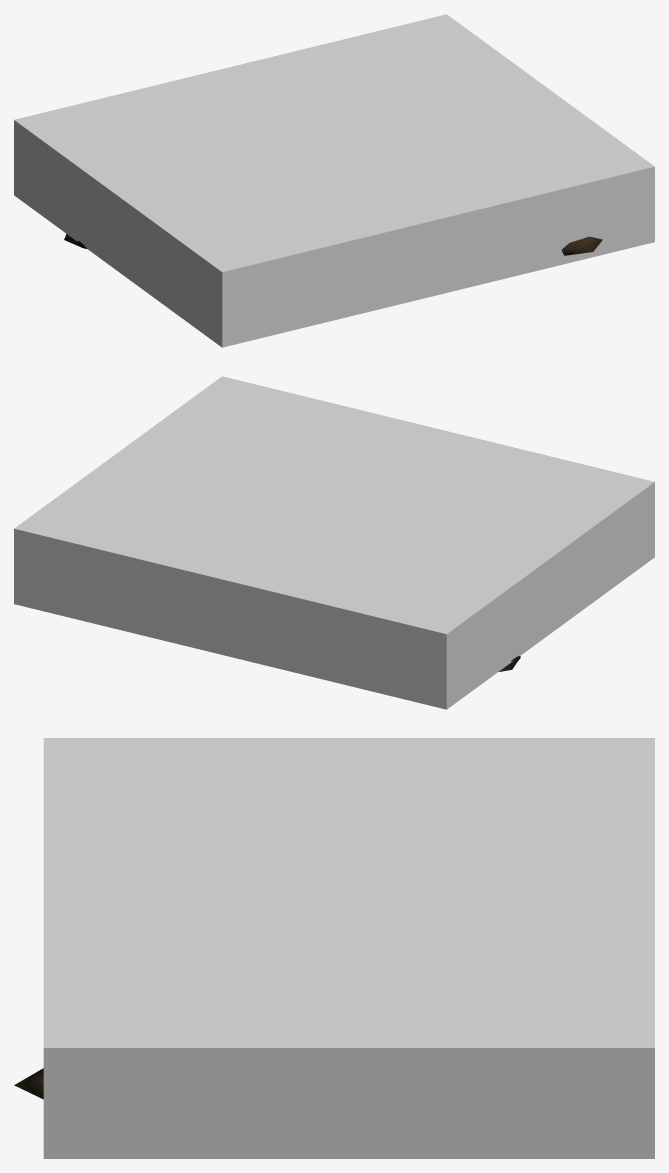
The model's file is sack_pile_opened.glb.
3 renders of one model, top to bottom at view 1: azimuth 30°, elevation 25°; view 2: azimuth 150°, elevation 25°; view 3: azimuth 270°, elevation 25°, orthographic. The views are drawn at different scales.
Parts seen in each view (by area): view 1: col_click, sack_pile_opened; view 2: col_click; view 3: col_click.
Part boxes in pixels (x1,y1,x2,y2): col_click: (14,14,654,347); sack_pile_opened: (64,234,602,255); col_click: (14,376,654,709); col_click: (43,738,654,1158).
Bounding box in the file's own units: 1.83 × 0.3121 × 1.57.
4 materials, 3 textured.
